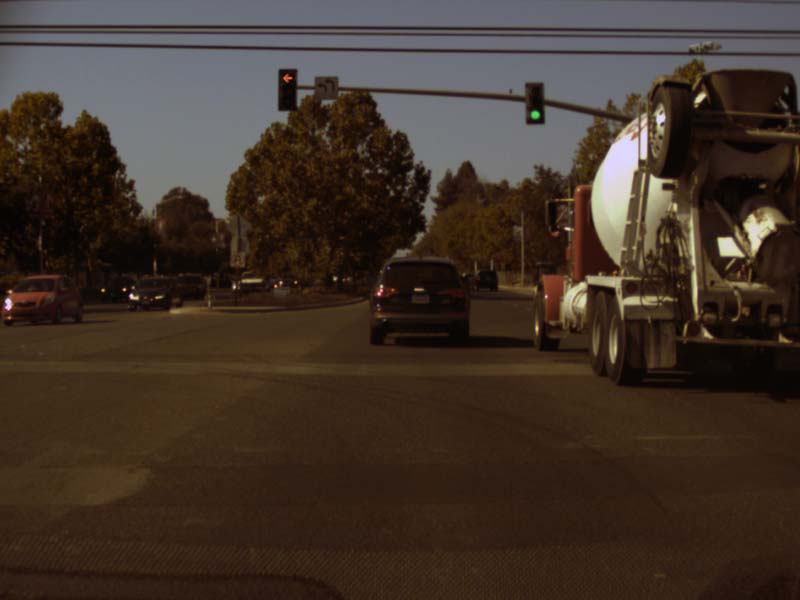Green: (525, 82, 543, 124)
Red: (279, 70, 295, 109)
